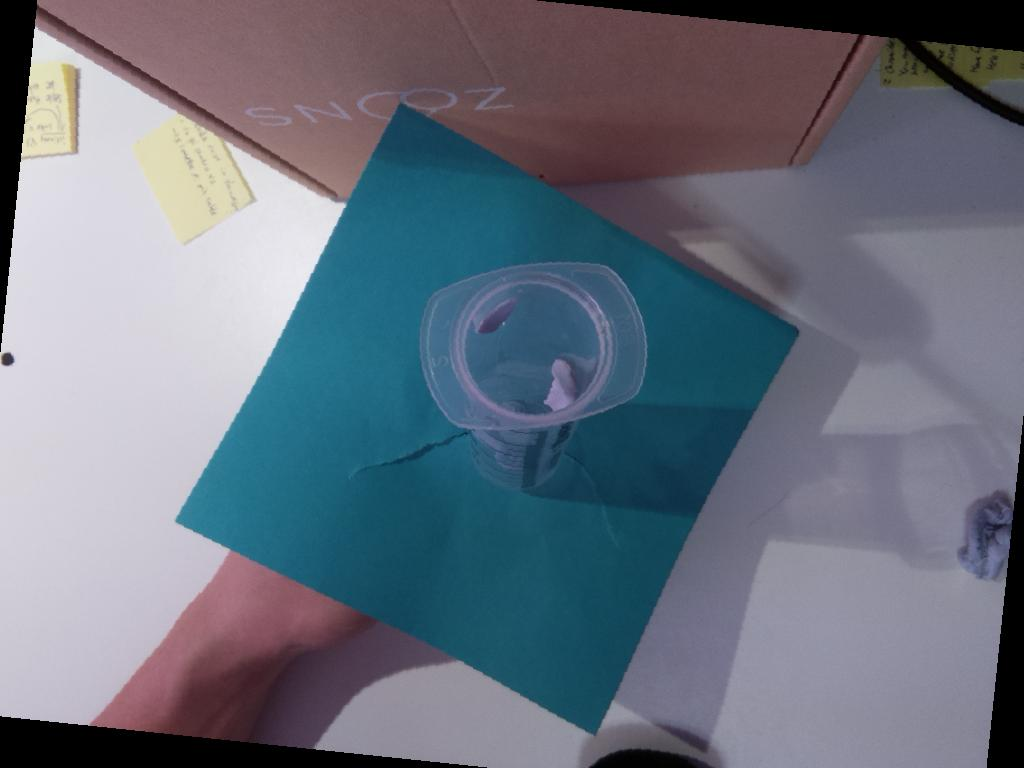dirty: (418, 260, 649, 429)
